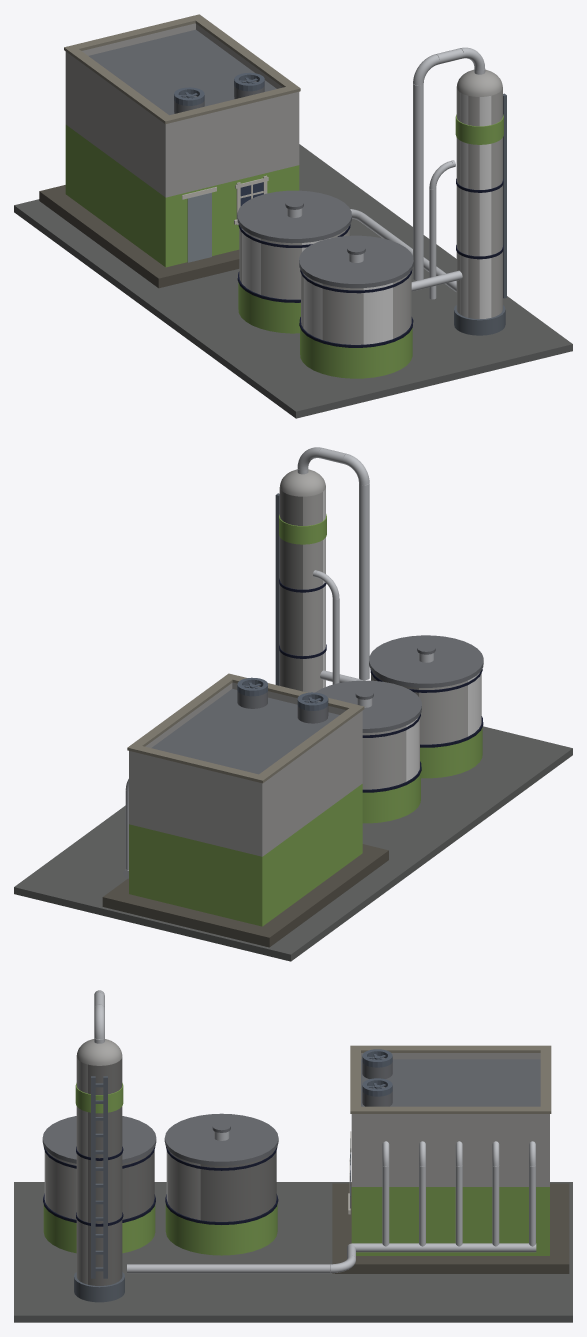
File: chem_plant_lvl1.glb
The picture shows the model from 3 angles, top to bottom: view 1: azimuth 30°, elevation 25°; view 2: azimuth 150°, elevation 25°; view 3: azimuth 270°, elevation 25°; orthographic projection.
Parts seen in each view (by area): view 1: chem_plant; view 2: chem_plant; view 3: chem_plant.
Boxes of the visible parts, <box> form: chem_plant: <box>14,14,572,418</box>; chem_plant: <box>14,447,572,961</box>; chem_plant: <box>14,990,572,1322</box>.
Bounding box in the file's own units: 0.53 × 0.5262 × 0.9349.
